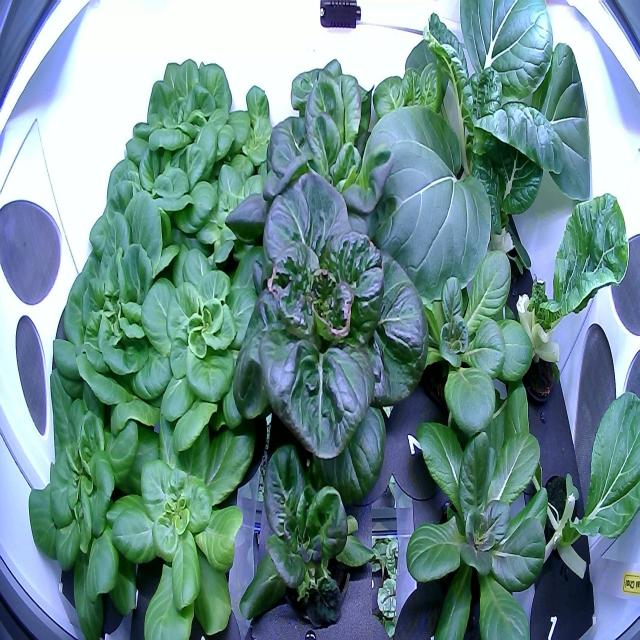Ready: (222, 152, 440, 526), (247, 49, 394, 228)
young: (382, 364, 560, 640), (14, 362, 187, 638), (122, 240, 287, 480), (380, 218, 542, 447), (46, 192, 198, 435), (105, 404, 258, 639), (85, 125, 228, 264), (120, 52, 252, 194), (180, 154, 292, 282), (208, 73, 308, 197)
